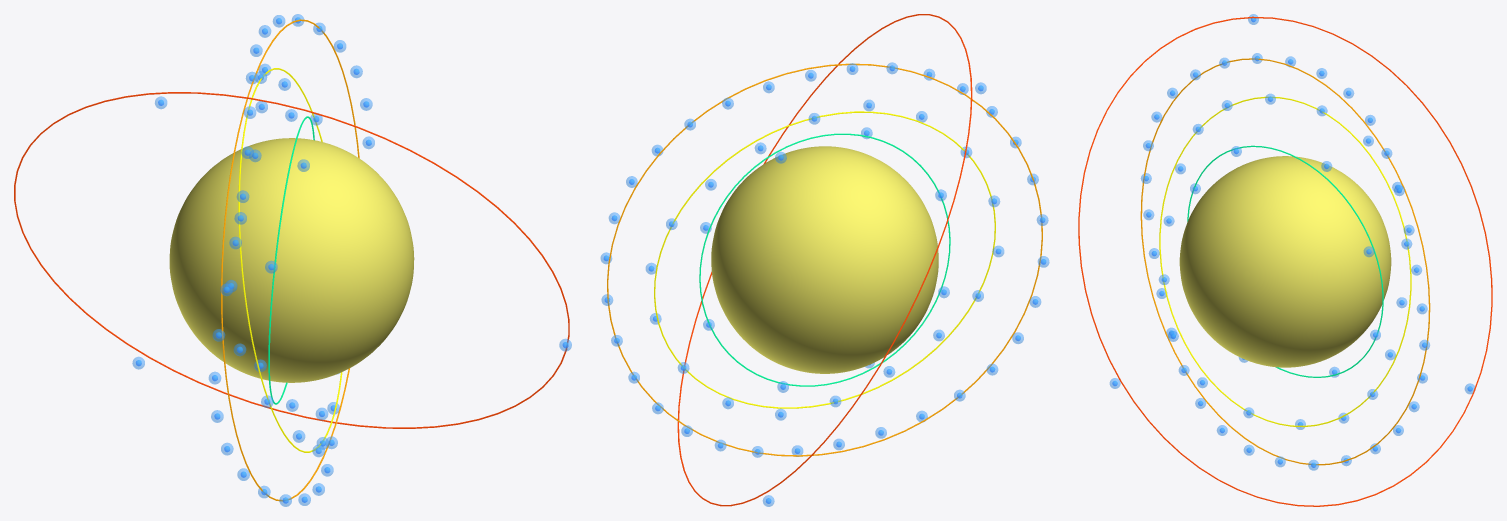
3 views of the same model, side by side, from view 1: azimuth 30°, elevation 25°; view 2: azimuth 150°, elevation 25°; view 3: azimuth 270°, elevation 25° (orthographic). The views are drawn at different scales.
Parts seen in each view (by area): view 1: Eu, object 126, object 61, object 24, object 7; view 2: Eu, object 61, object 126, object 24, object 7; view 3: Eu, object 126, object 61, object 24, object 7.
Part boxes in pixels (left/top/right/bottom): Eu: left=169, top=138, right=414, bottom=382; object 126: left=14, top=92, right=569, bottom=428; object 61: left=221, top=19, right=359, bottom=501; object 24: left=238, top=68, right=342, bottom=452; object 7: left=268, top=116, right=314, bottom=404; Eu: left=711, top=146, right=938, bottom=373; object 61: left=607, top=63, right=1042, bottom=456; object 126: left=677, top=14, right=972, bottom=506; object 24: left=654, top=111, right=995, bottom=408; object 7: left=699, top=133, right=950, bottom=386; Eu: left=1179, top=156, right=1391, bottom=367; object 126: left=1078, top=16, right=1492, bottom=506; object 61: left=1140, top=58, right=1430, bottom=465; object 24: left=1159, top=96, right=1411, bottom=427; object 7: left=1187, top=145, right=1383, bottom=377.
Bounding box in the file's own units: 5.53 × 6.16 × 5.98.
